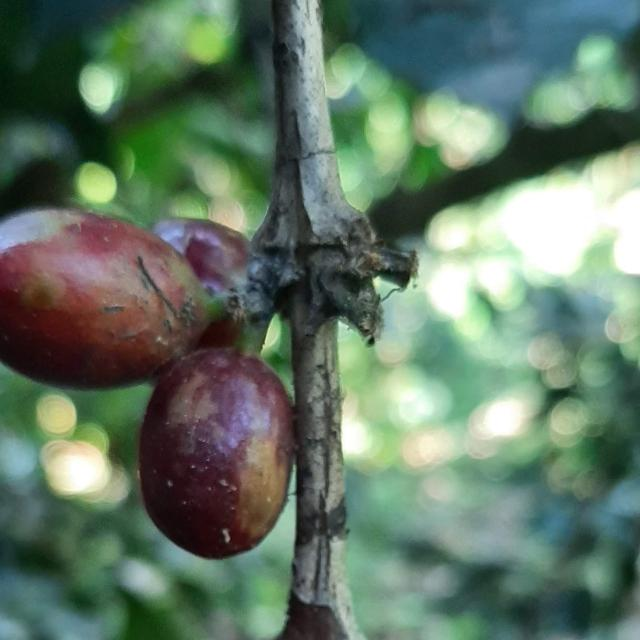red: (138, 349, 294, 560), (152, 218, 248, 293), (197, 318, 240, 348)
yellow: (0, 209, 210, 389)
